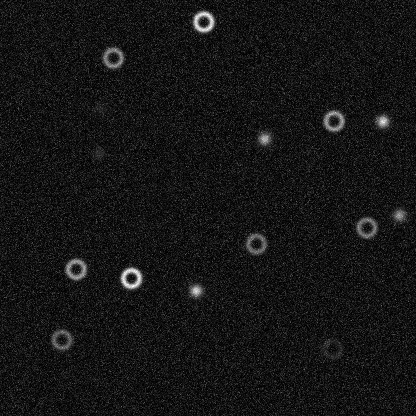Ring: (49, 327, 73, 351), (191, 9, 215, 33), (63, 257, 87, 281), (100, 45, 124, 69), (354, 215, 378, 239), (319, 336, 343, 360), (119, 265, 143, 289), (243, 231, 267, 255), (321, 108, 345, 132)
Spot: (90, 145, 106, 161), (187, 282, 203, 298), (91, 100, 107, 116), (256, 130, 272, 146), (391, 206, 407, 222), (374, 113, 390, 129)
